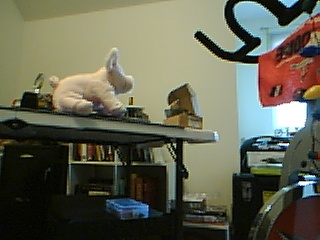piggy: (47, 46, 136, 117)
